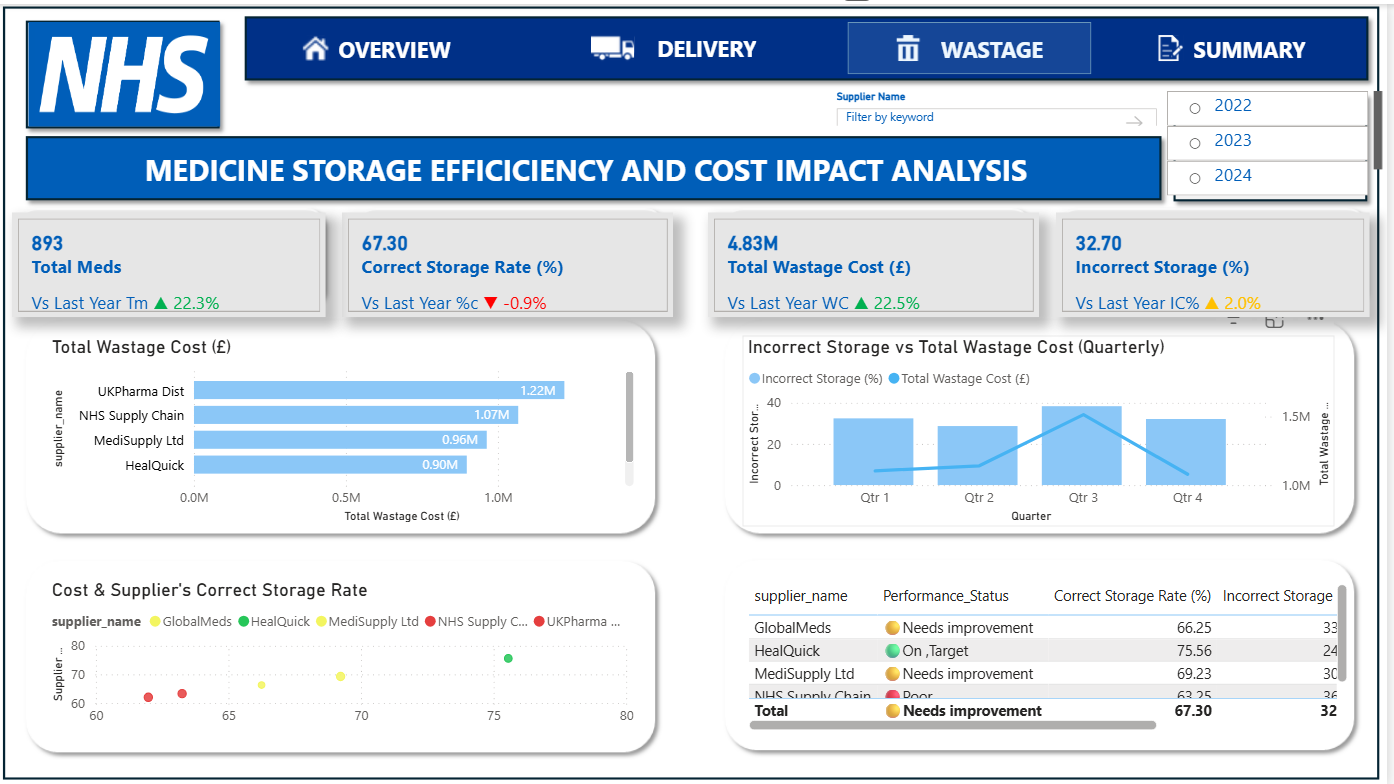

The dashboard page shown, as its layout file describes it:
{"tool":"powerbi","page":{"name":"Page 3","canvas":[1280,720],"ordinal":2},"visuals":[{"type":"clusteredBarChart","title":"Total Wastage Cost (£) ","fields":{"Category":["nhs_pharma_clean.supplier_name"],"Y":["_Measures.Total Wastage Cost (£)"]},"box":[48,304,544,176],"z":0},{"type":"lineClusteredColumnComboChart","title":"Incorrect Storage vs Total Wastage Cost (Quarterly)","fields":{"Category":["nhs_pharma_clean.delivery_date.Variation.Date Hierarchy.Quarter"],"Y":["_Measures.Incorrect Storage %"],"Y2":["_Measures.Total Wastage Cost (£)"]},"box":[688,304,544,176],"z":1000},{"type":"scatterChart","title":"Cost & Supplier''s Correct Storage Rate","fields":{"X":["_Measures.Supplier Correct Storage Rate"],"Size":["nhs_pharma_clean.Supplier Total Cost"],"Category":["nhs_pharma_clean.supplier_name"],"Series":["nhs_pharma_clean.supplier_name"],"Y":["_Measures.Supplier Correct Storage Rate"]},"box":[48,528,544,144],"z":2000},{"type":"tableEx","fields":{"Values":["nhs_pharma_clean.supplier_name","_Measures.Performance_Status","_Measures.Correct Storage Rate (%)","_Measures.Incorrect Storage %","_Measures.Wastage Cost by Incorrect Storage"]},"box":[688,528,560,144],"z":3000},{"type":"cardVisual","fields":{"Data":["_Measures.Correct Storage Rate (%)"]},"box":[320,192,304,96],"z":4000},{"type":"cardVisual","fields":{"Data":["_Measures.Total Wastage Cost (£)"]},"box":[656,192,304,96],"z":5000},{"type":"cardVisual","fields":{"Data":["_Measures.Incorrect Storage %"]},"box":[976,192,288,96],"z":6000},{"type":"cardVisual","fields":{"Data":["_Measures.Total Meds"]},"box":[16,192,288,96],"z":7000},{"type":"advancedSlicerVisual","fields":{"Values":["Date_Table.Year"]},"box":[1072,80,208,96],"z":8000},{"type":"image","box":[32,16,176,96],"z":9000},{"type":"textSlicer","title":"Supplier Name","fields":{"Values":["nhs_pharma_clean.supplier_name"]},"box":[768,80,304,32],"z":10000},{"type":"textbox","box":[32,128,1024,48],"z":11000},{"type":"actionButton","box":[272,16,160,48],"z":12000},{"type":"actionButton","box":[544,16,160,48],"z":13000},{"type":"actionButton","box":[816,16,160,48],"z":14000},{"type":"actionButton","box":[1056,16,160,48],"z":15000},{"type":"shape","box":[784,16,224,48],"z":16000}]}

Visuals, with their boxes in screenshot pixels (x1, y1, x2, y2), scaled from the page's 1280x720 canvas onto the 1394x784 screenshot:
"Total Wastage Cost (£) " clusteredBarChart: (52, 331, 645, 523)
"Incorrect Storage vs Total Wastage Cost (Quarterly)" lineClusteredColumnComboChart: (749, 331, 1342, 523)
"Cost & Supplier''s Correct Storage Rate" scatterChart: (52, 575, 645, 732)
tableEx - nhs_pharma_clean.supplier_name x _Measures.Performance_Status: (749, 575, 1359, 732)
cardVisual - _Measures.Correct Storage Rate (%): (348, 209, 680, 314)
cardVisual - _Measures.Total Wastage Cost (£): (714, 209, 1046, 314)
cardVisual - _Measures.Incorrect Storage %: (1063, 209, 1377, 314)
cardVisual - _Measures.Total Meds: (17, 209, 331, 314)
advancedSlicerVisual - Date_Table.Year: (1167, 87, 1393, 192)
image: (35, 17, 227, 122)
"Supplier Name" textSlicer: (836, 87, 1167, 122)
textbox: (35, 139, 1150, 192)
actionButton: (296, 17, 470, 70)
actionButton: (592, 17, 767, 70)
actionButton: (889, 17, 1063, 70)
actionButton: (1150, 17, 1324, 70)
shape: (854, 17, 1098, 70)
